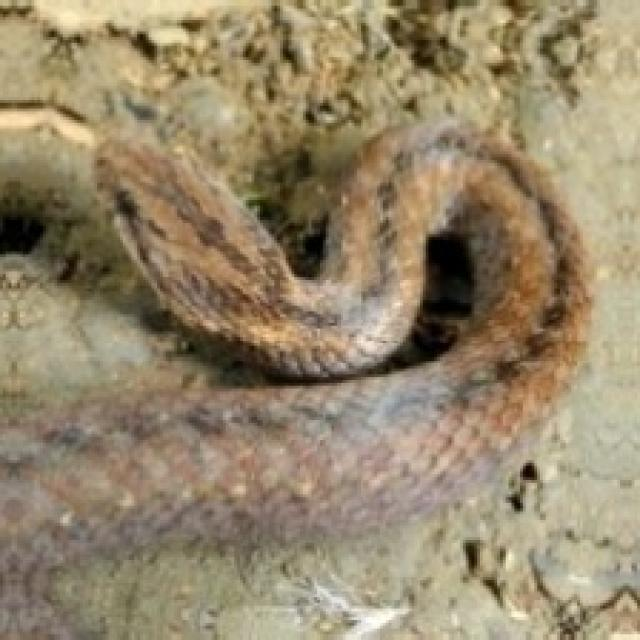reinhardts lined snake: (6, 123, 589, 557)
